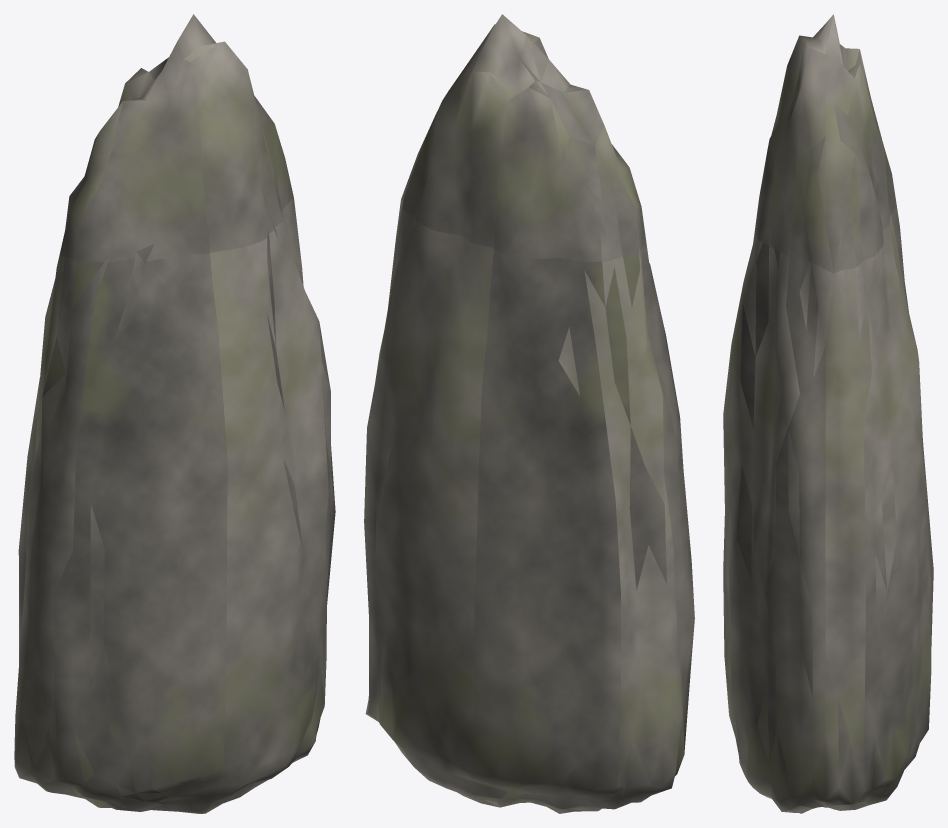
The model's file is Standing_Stone_1.gltf.
3 views of the same model, side by side, from view 1: azimuth 30°, elevation 25°; view 2: azimuth 150°, elevation 25°; view 3: azimuth 270°, elevation 25° (orthographic).
Visible parts, largest first — view 1: Standing_Stone_1; view 2: Standing_Stone_1; view 3: Standing_Stone_1.
Boxes of the visible parts, box(x1,y1,x2,y2) form: Standing_Stone_1: box(14, 14, 335, 813); Standing_Stone_1: box(364, 14, 694, 813); Standing_Stone_1: box(723, 14, 933, 813).
Bounding box in the file's own units: 1.6 × 3.88 × 0.9386.
1 material, 1 textured.
